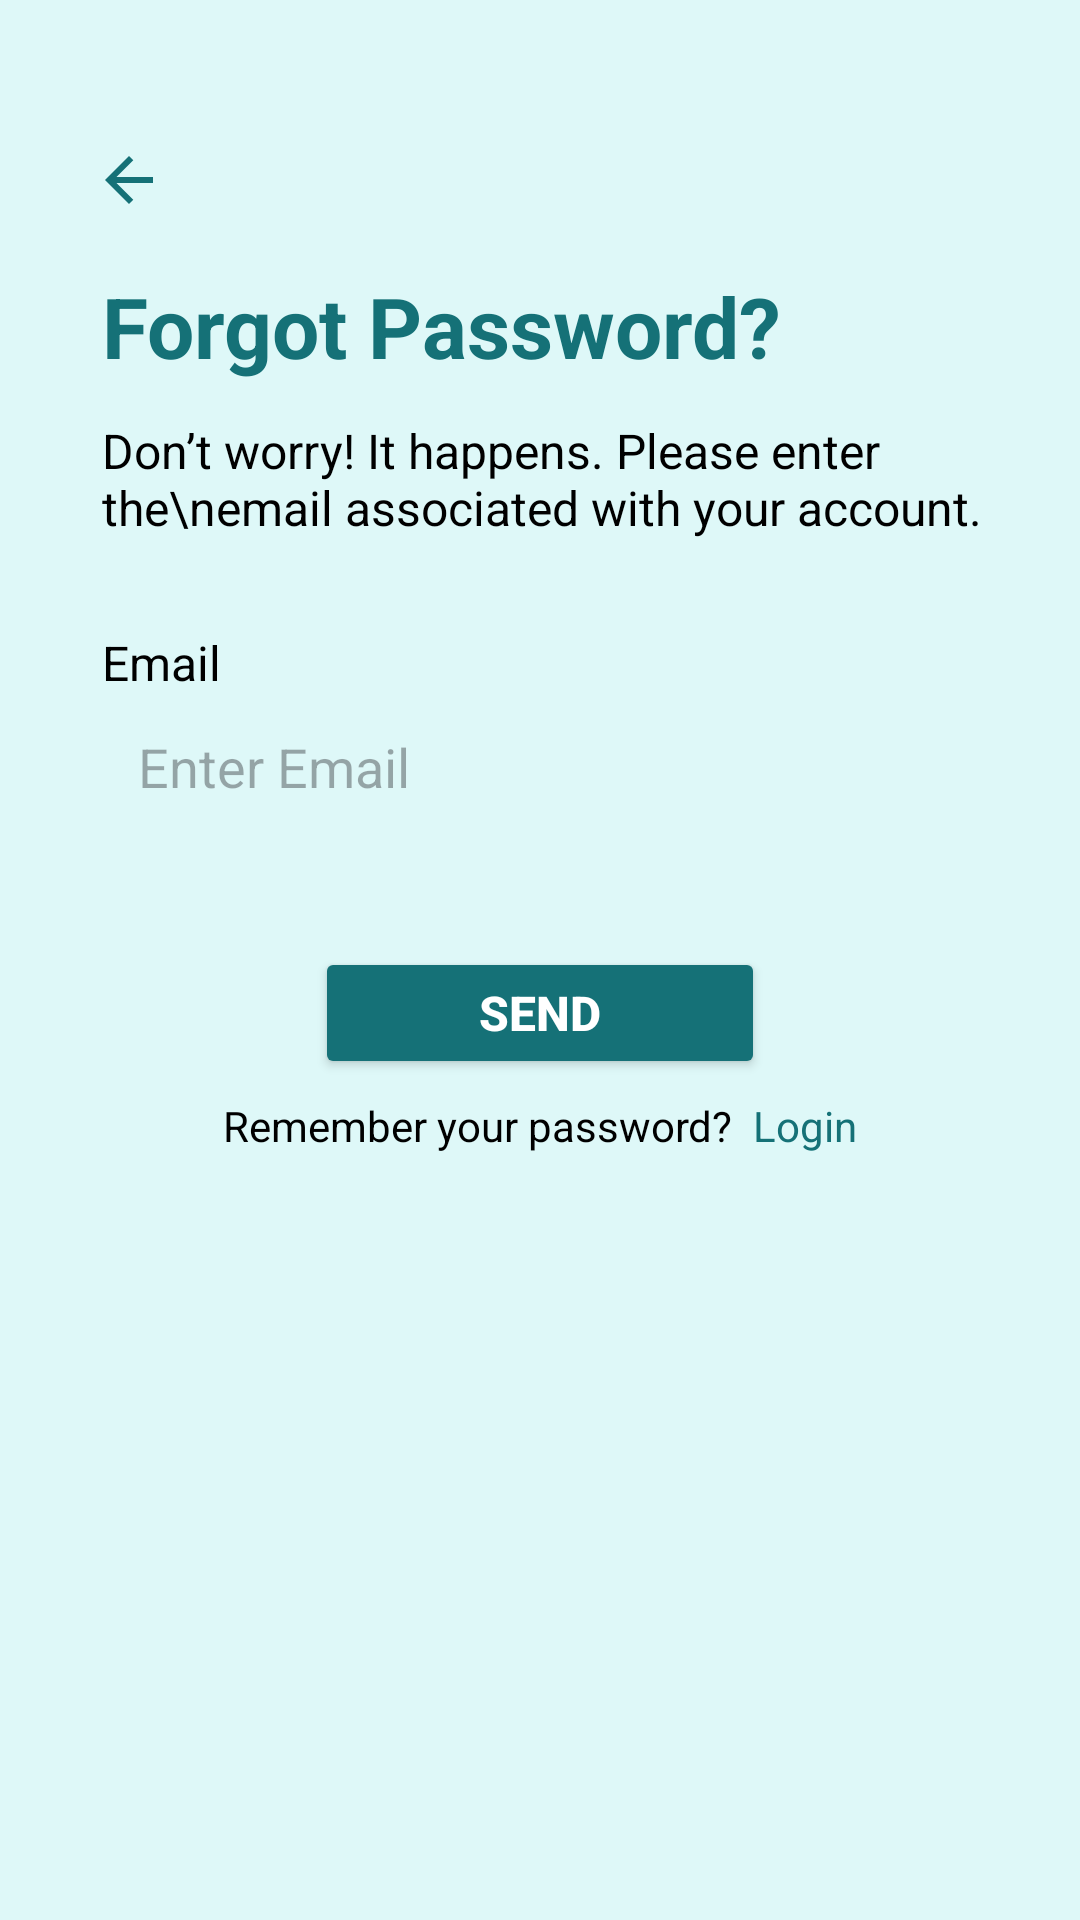

Point at icon controls on the screen. Image size 1080×1920, points as [x,y].
back arrow: [129,180]
